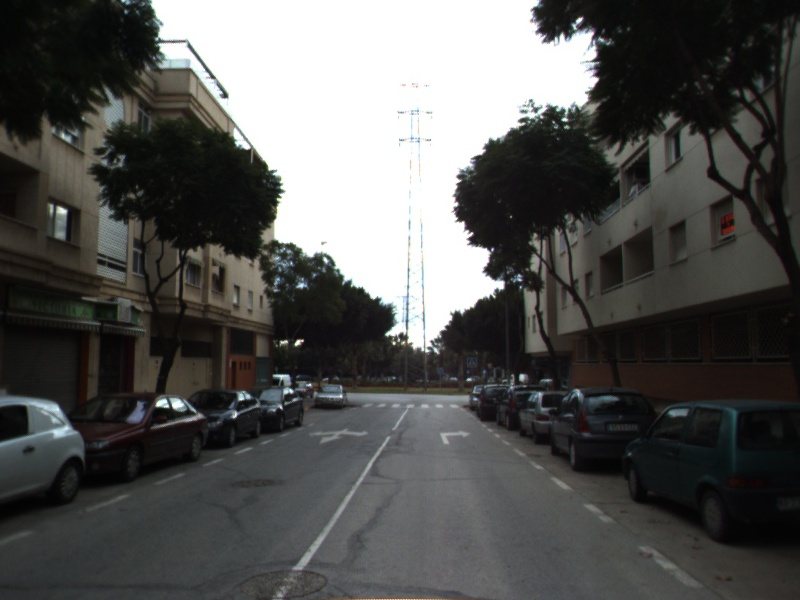RIGHT: (438, 428, 473, 446)
